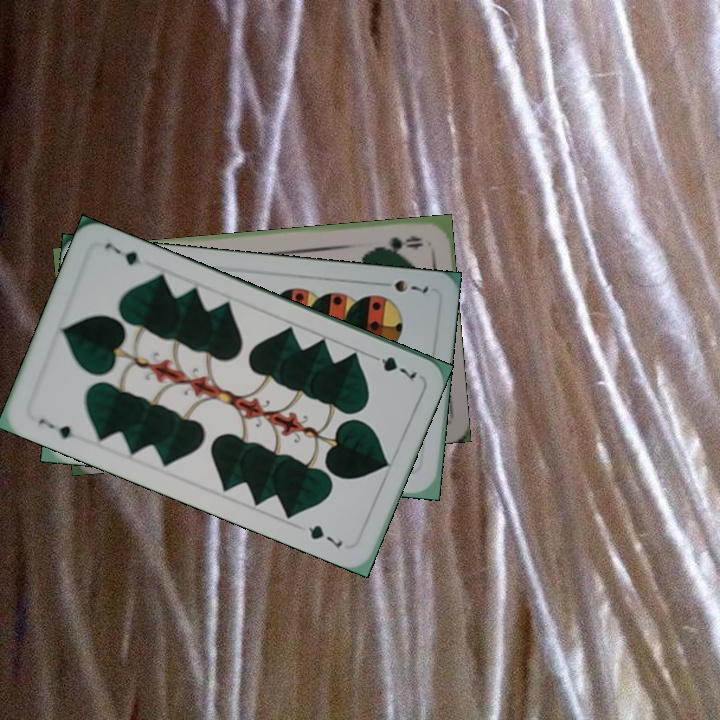G7: (365, 350, 420, 383), (34, 414, 75, 442)
GO: (369, 231, 426, 254)
S7: (374, 276, 431, 295)
